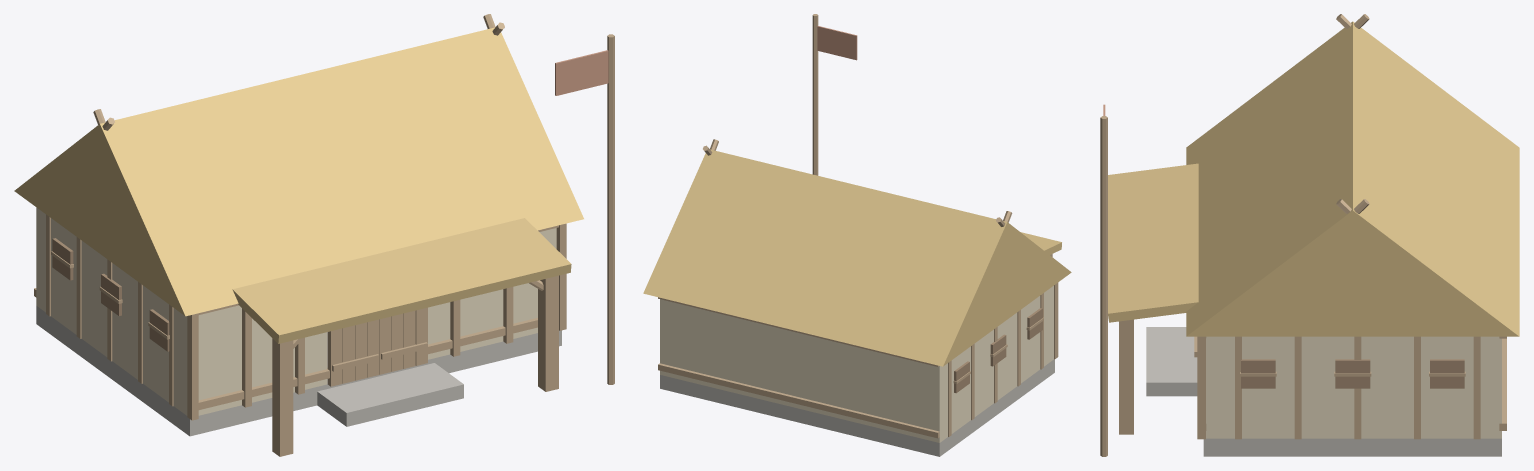
Rendered from hall.glb.
3 renders of one model, left to right at view 1: azimuth 30°, elevation 25°; view 2: azimuth 150°, elevation 25°; view 3: azimuth 270°, elevation 25°, orthographic. The views are drawn at different scales.
Visible parts, largest first — view 1: hall_roof, hall_plaster, hall_wood, hall_stone, hall_door, hall_banner, hall_window; view 2: hall_roof, hall_plaster, hall_wood, hall_stone, hall_window, hall_banner; view 3: hall_roof, hall_plaster, hall_wood, hall_stone, hall_window.
Boxes of the visible parts, box(x1,y1,x2,y2) form: hall_roof: box(14, 27, 583, 343); hall_plaster: box(36, 207, 556, 415); hall_wood: box(34, 14, 614, 456); hall_stone: box(36, 306, 561, 436); hall_door: box(327, 307, 427, 386); hall_banner: box(555, 50, 608, 95); hall_window: box(52, 238, 169, 351); hall_roof: box(643, 149, 1071, 366); hall_plaster: box(660, 286, 1053, 442); hall_wood: box(658, 14, 1058, 438); hall_stone: box(660, 359, 1054, 456); hall_window: box(954, 308, 1042, 393); hall_banner: box(817, 26, 857, 60); hall_roof: box(1108, 21, 1519, 336); hall_plaster: box(1206, 336, 1501, 438); hall_wood: box(1100, 14, 1506, 456); hall_stone: box(1146, 327, 1501, 456); hall_window: box(1241, 359, 1464, 388).
Bounding box in the file's own units: 3 × 2.5 × 2.81.
